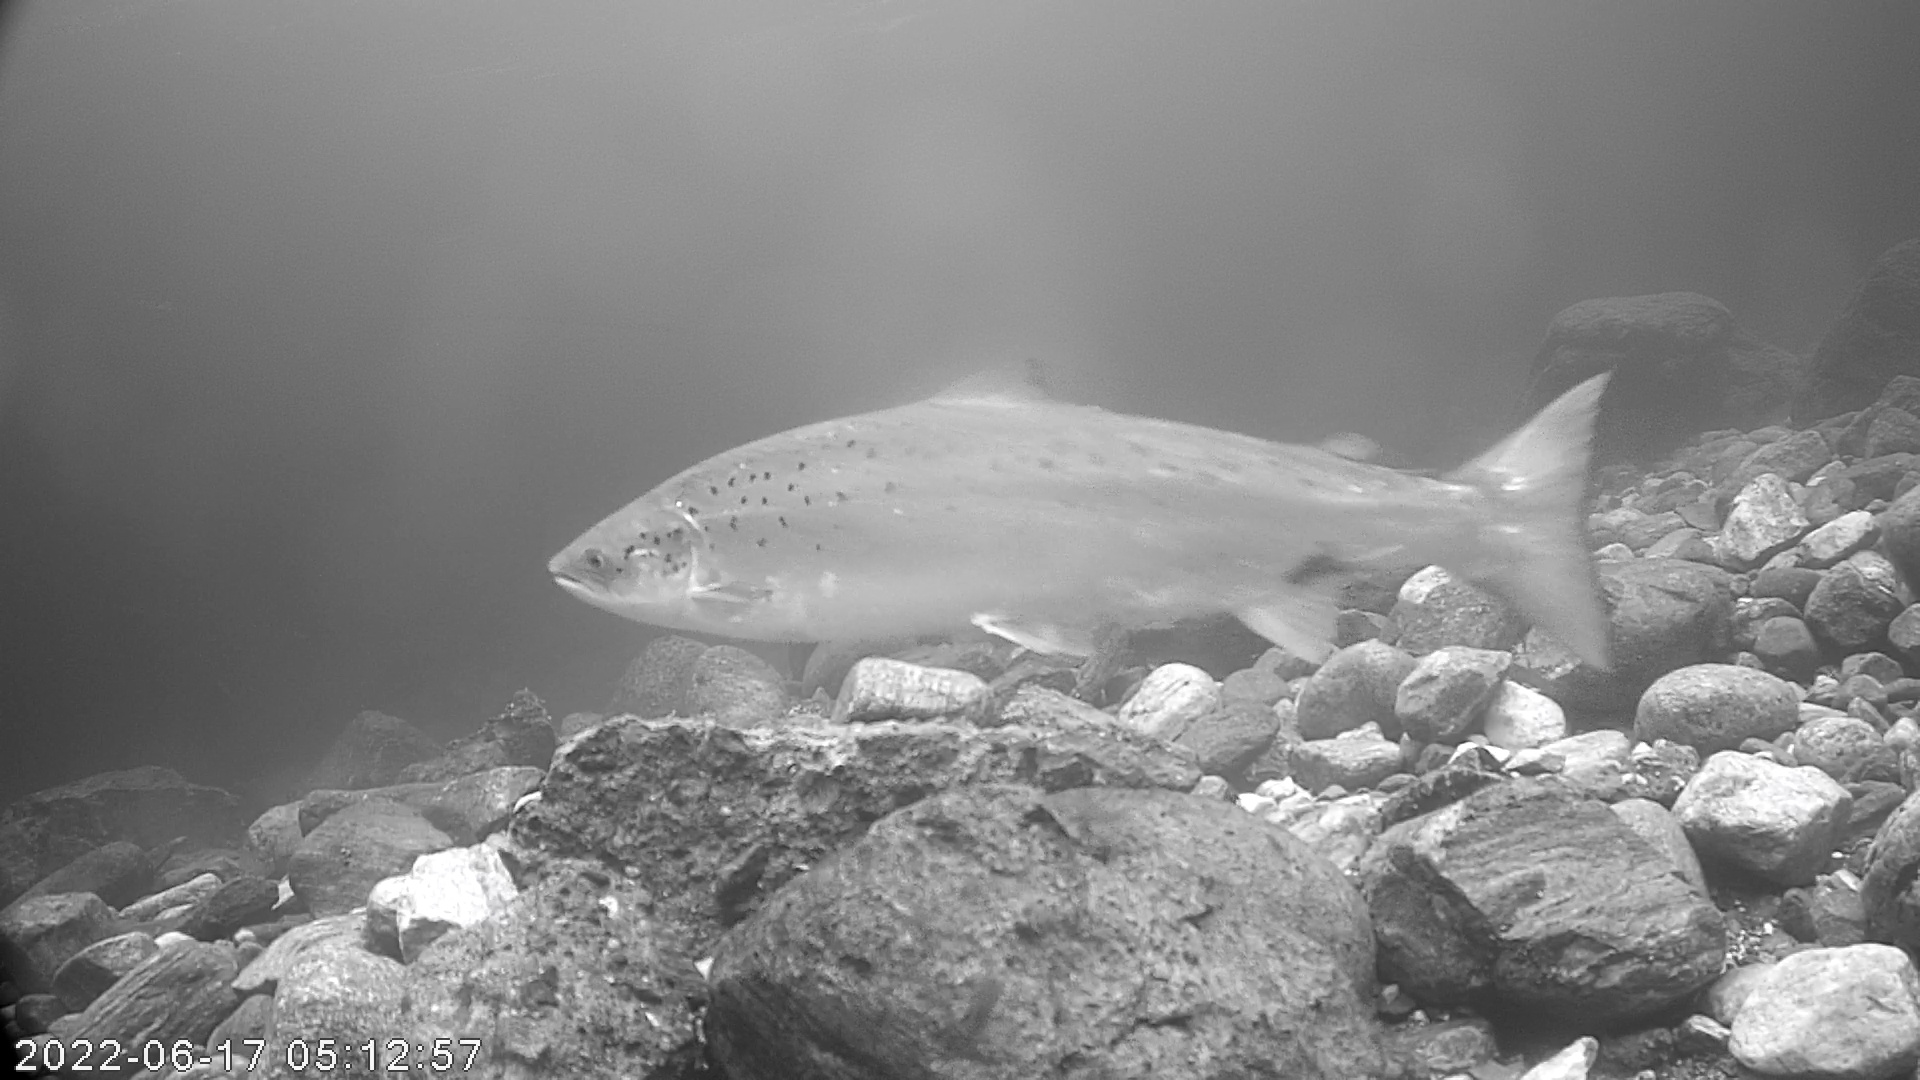salmon: (545, 348, 1617, 682)
